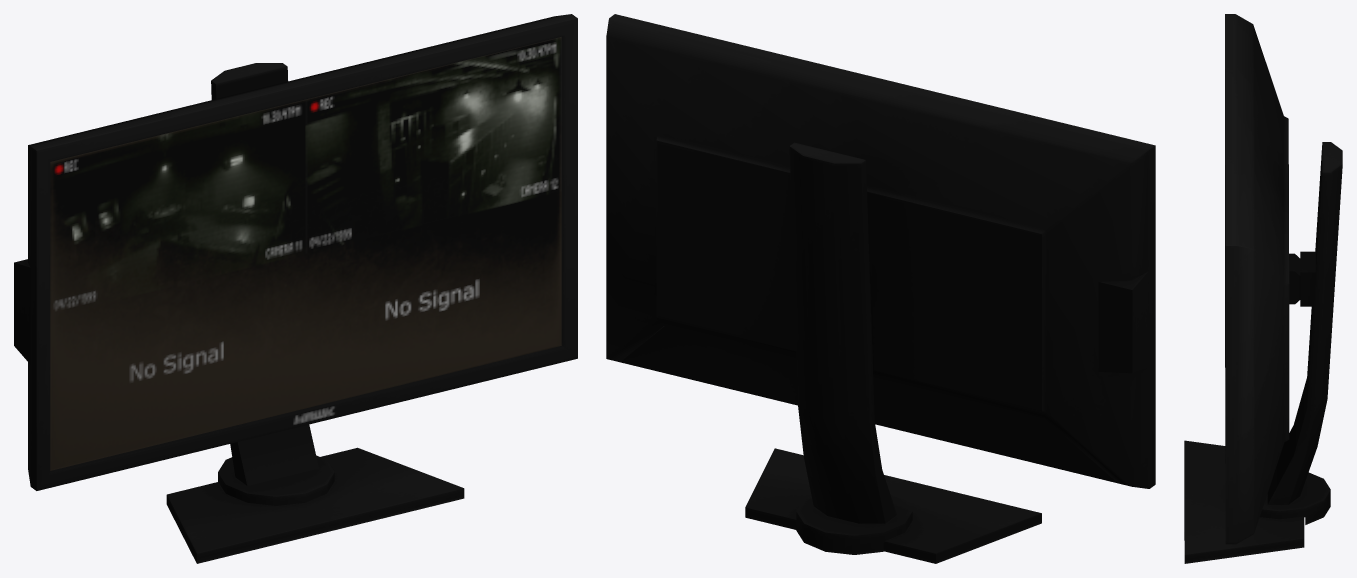
The model's file is Monitor 4.fbx.
3 views of the same model, side by side, from view 1: azimuth 30°, elevation 25°; view 2: azimuth 150°, elevation 25°; view 3: azimuth 270°, elevation 25° (orthographic). The views are drawn at different scales.
Visible parts, largest first — view 1: Monitor_4; view 2: Monitor_4; view 3: Monitor_4.
Part boxes in pixels (<box>): Monitor_4: <box>14,14,577,563</box>; Monitor_4: <box>606,14,1155,563</box>; Monitor_4: <box>1184,14,1342,563</box>.
Size of the model in its own units: 41.69 by 31.59 by 12.05.
